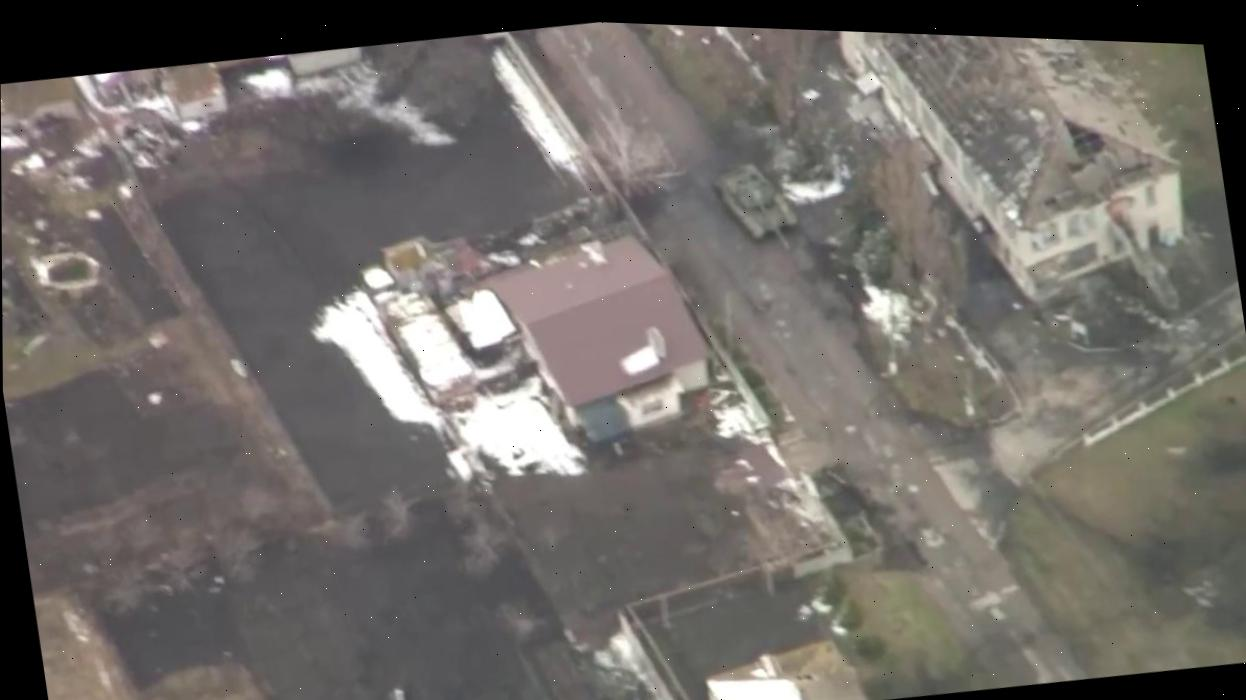tank: (709, 154, 803, 261)
